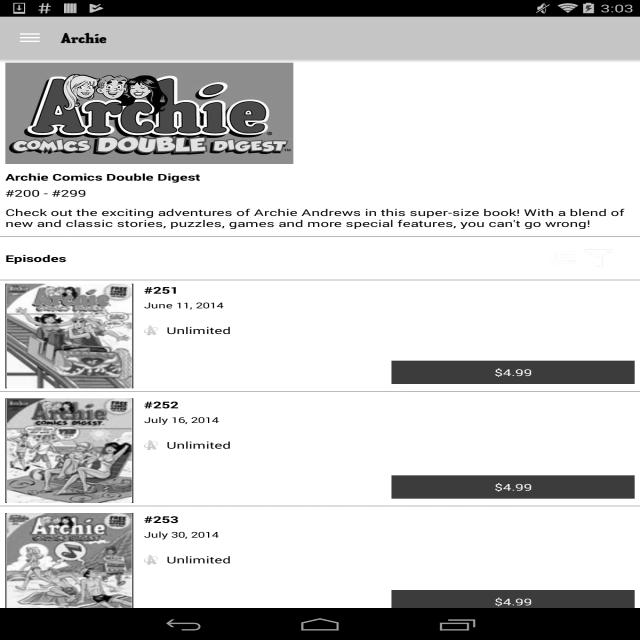Button: (392, 475, 634, 499), (392, 361, 634, 384), (392, 590, 634, 613)
ImageButton: (0, 30, 60, 46)
ImageView: (0, 59, 640, 608), (5, 63, 294, 164), (5, 398, 134, 503), (5, 513, 134, 618), (5, 284, 134, 388), (579, 247, 618, 270), (545, 247, 579, 270), (60, 30, 107, 46)
TextView: (5, 206, 635, 230), (5, 171, 635, 183), (5, 187, 635, 199), (144, 324, 635, 337), (144, 398, 635, 411), (144, 513, 635, 526), (144, 553, 635, 566), (144, 284, 635, 296), (144, 414, 635, 426), (144, 439, 635, 451), (144, 529, 635, 540), (144, 300, 635, 310), (5, 252, 66, 265)
